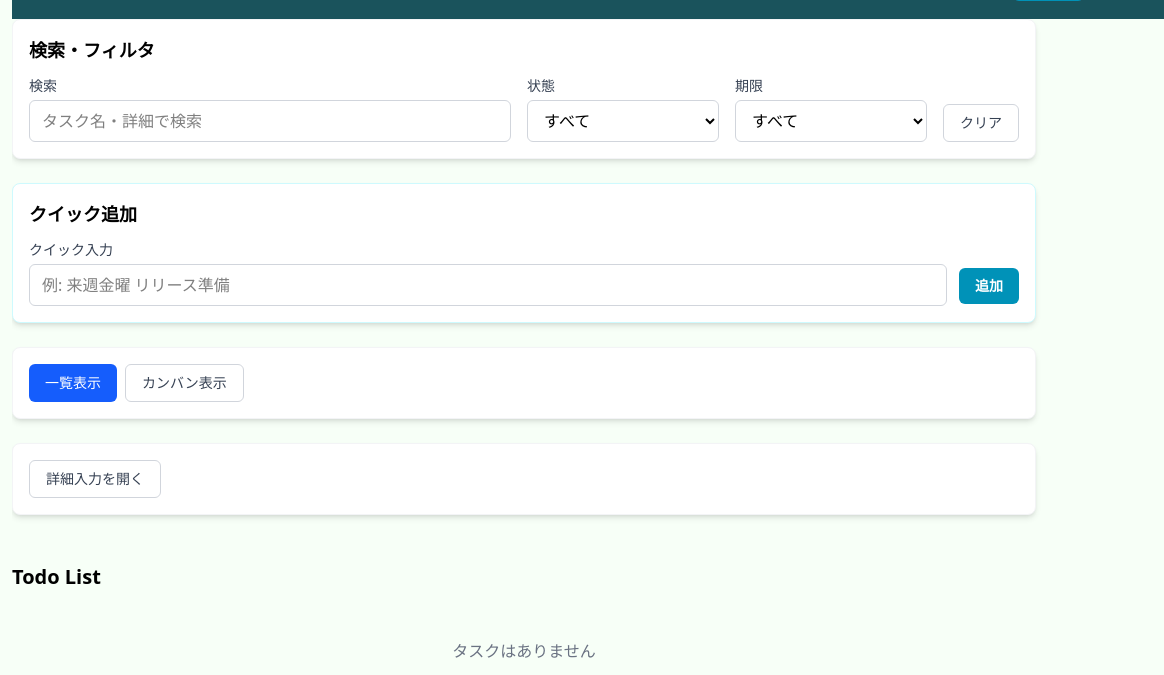
Scenario: DashboardPage › 空状態メッセージ › 検索条件の有無で空状態メッセージが切り替わる
Check: the text "タスクはありません" is shown, box [452,640,596,662]
Type "Test" into the field labelled "検索" at [270, 121], box [29,100,511,142]
(page scrolled)
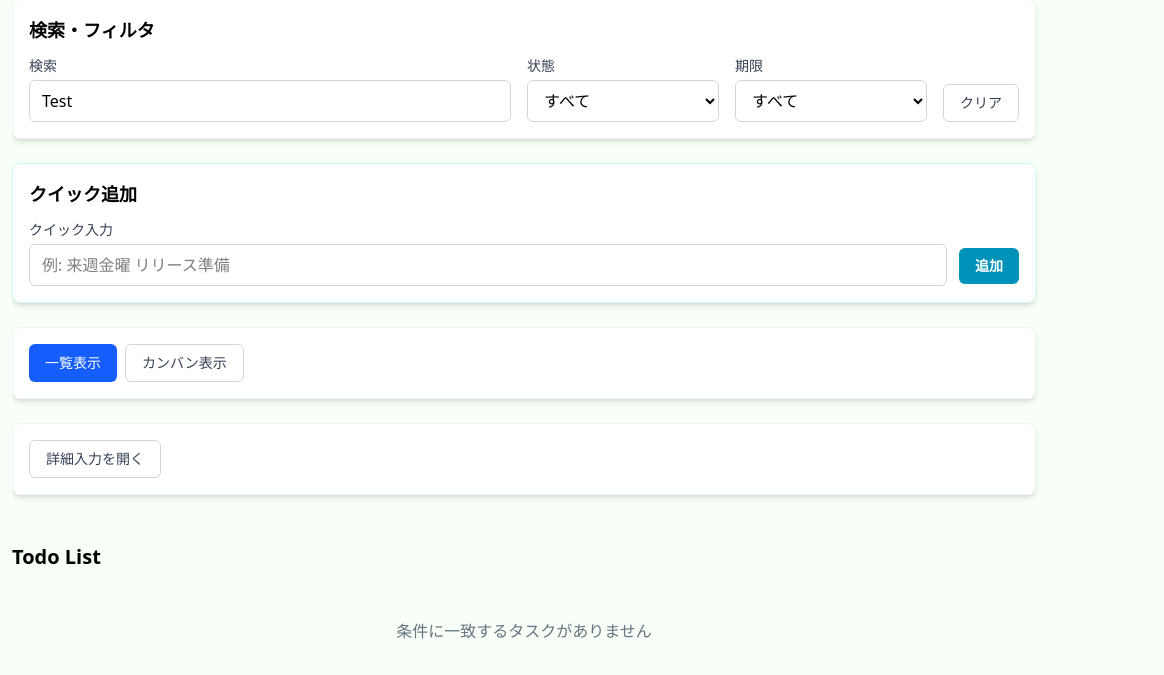
Check: the text "条件に一致するタスクがありません" is shown, box [396,620,652,642]
